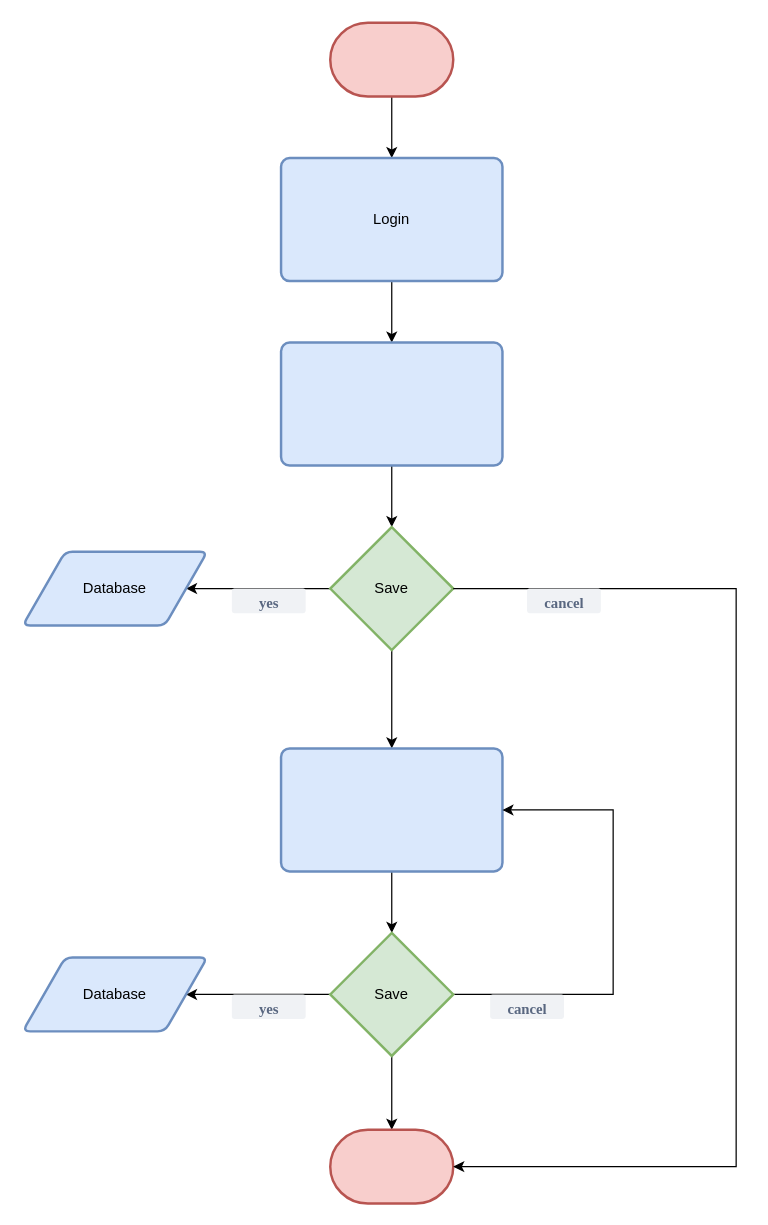
This 768x1225 diagram has some shape labels left out. Each missing label, with the box of its shape:
Create List: (279, 341, 503, 466)
Create Task: (279, 747, 503, 872)
End: (328, 1128, 454, 1204)
Start: (328, 21, 454, 97)
